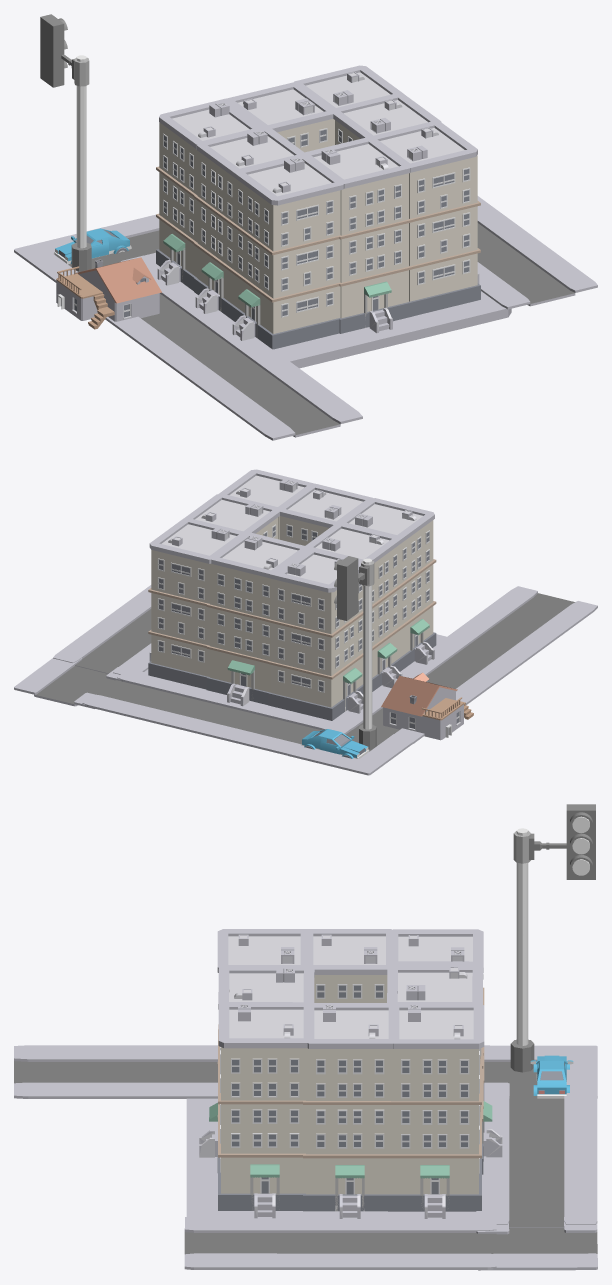
The model's file is housesblock.glb.
The picture shows the model from 3 angles, top to bottom: view 1: azimuth 30°, elevation 25°; view 2: azimuth 150°, elevation 25°; view 3: azimuth 270°, elevation 25°; orthographic projection. The views are drawn at different scales.
Parts seen in each view (by area): view 1: house3.002, street1, house3.004, house3.007, house3.001, house3, street1.002, house2.001, street4, trafficlight_off, house3.003, house3.005 (+4 smaller); view 2: house3, street1, house3.003, house3.006, street1.001, house3.002, house3.001, street1.002, house2.001, trafficlight_off, house3.004, street3 (+4 smaller); view 3: house3.006, house3.007, house3.005, street1.002, street1.001, street1, trafficlight_off, house3.001, house3.003, street3, street4, house3.004 (+4 smaller).
Part boxes in pixels (box(x1,y1,x2,y2)): house3.002: box(230, 154, 343, 349); street1: box(105, 266, 362, 440); house3.004: box(302, 137, 412, 333); house3.007: box(375, 122, 480, 316); house3.001: box(194, 127, 303, 318); house3: box(156, 98, 269, 290); street1.002: box(477, 196, 597, 309); house2.001: box(56, 257, 161, 329); street4: box(274, 291, 511, 368); trafficlight_off: box(40, 14, 91, 271); house3.003: box(226, 82, 337, 152); house3.005: box(333, 94, 441, 144); house3: box(268, 547, 363, 720); street1: box(327, 586, 597, 744); house3.003: box(206, 532, 313, 706); house3.006: box(148, 518, 248, 689); street1.001: box(82, 671, 335, 755); house3.002: box(336, 498, 436, 668); house3.001: box(304, 523, 403, 691); street1.002: box(53, 585, 151, 677); house2.001: box(381, 672, 473, 740); trafficlight_off: box(334, 556, 376, 750); house3.004: box(279, 483, 374, 545); street3: box(14, 658, 121, 708); house3.006: box(388, 1003, 484, 1218); house3.007: box(218, 1002, 311, 1218); house3.005: box(303, 1003, 393, 1218); street1.002: box(184, 1216, 496, 1269); street1.001: box(476, 1095, 597, 1227); street1: box(14, 1045, 500, 1098); trafficlight_off: box(510, 804, 595, 1072); house3.001: box(300, 929, 396, 1002); house3.003: box(387, 961, 502, 1174); street3: box(476, 1217, 597, 1270); street4: box(186, 1098, 476, 1216); house3.004: box(199, 966, 314, 1172).
Bounding box in the file's own units: 18.87 × 10.11 × 19.89.
